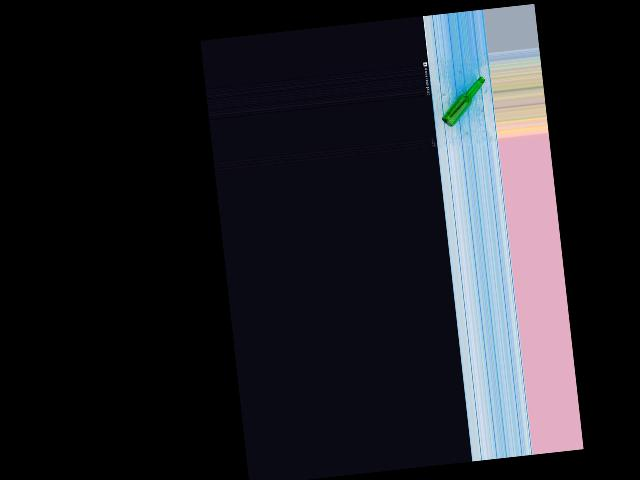beer: (436, 76, 489, 128)
